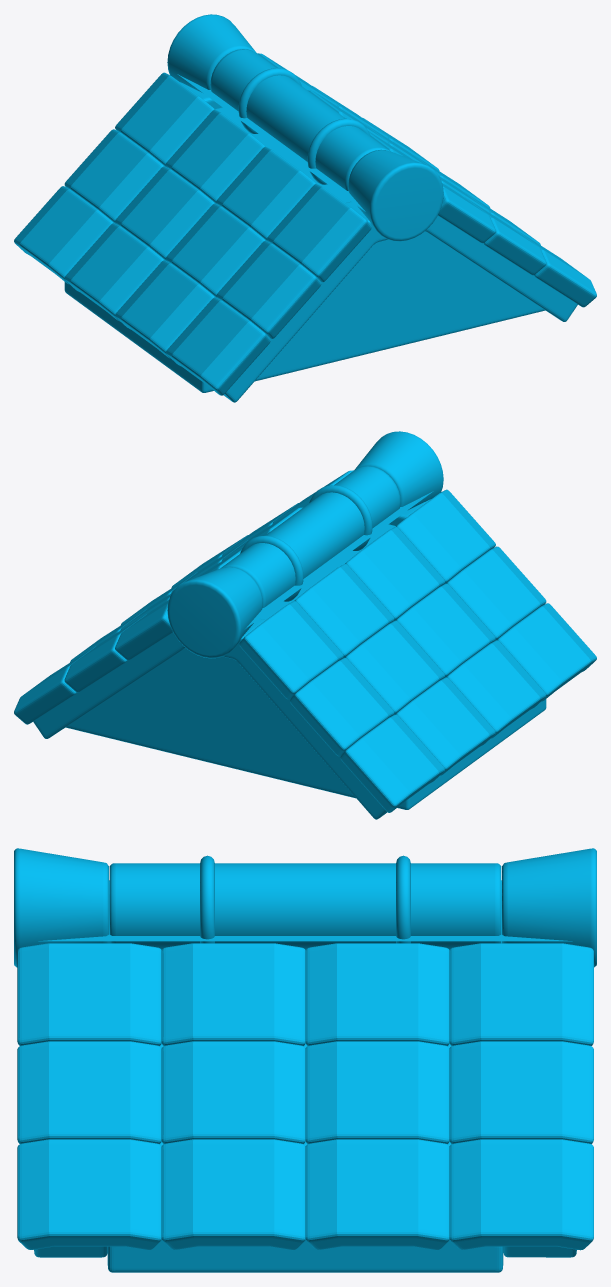
The model's file is SM_Wood_Roof_04.fbx.
The picture shows the model from 3 angles, top to bottom: view 1: azimuth 30°, elevation 25°; view 2: azimuth 150°, elevation 25°; view 3: azimuth 270°, elevation 25°; orthographic projection. The views are drawn at different scales.
Visible parts, largest first — view 1: SM_Wood_Roof_04; view 2: SM_Wood_Roof_04; view 3: SM_Wood_Roof_04.
Part boxes in pixels (x1,y1,x2,y2): SM_Wood_Roof_04: [14, 14, 596, 402]; SM_Wood_Roof_04: [14, 431, 596, 819]; SM_Wood_Roof_04: [14, 848, 596, 1272].
Size of the model in its own units: 2.75 by 1.42 by 2.5.
